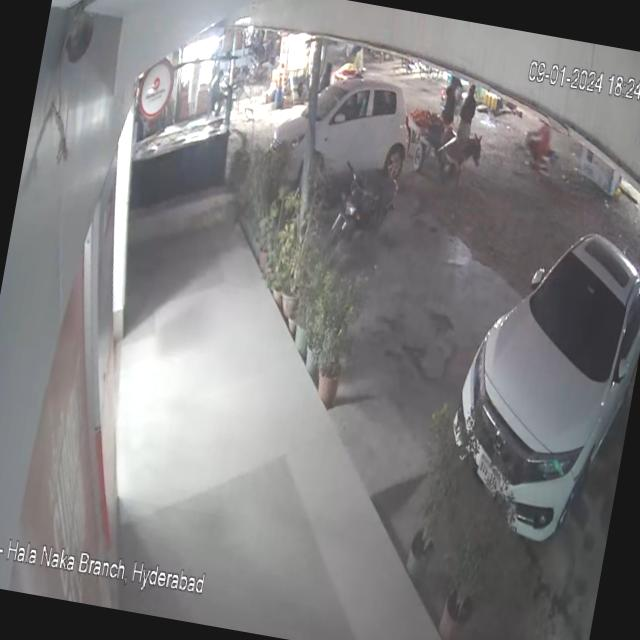Car: (431, 172, 640, 565), (246, 48, 424, 190)
Motorcycle: (325, 150, 404, 264)
